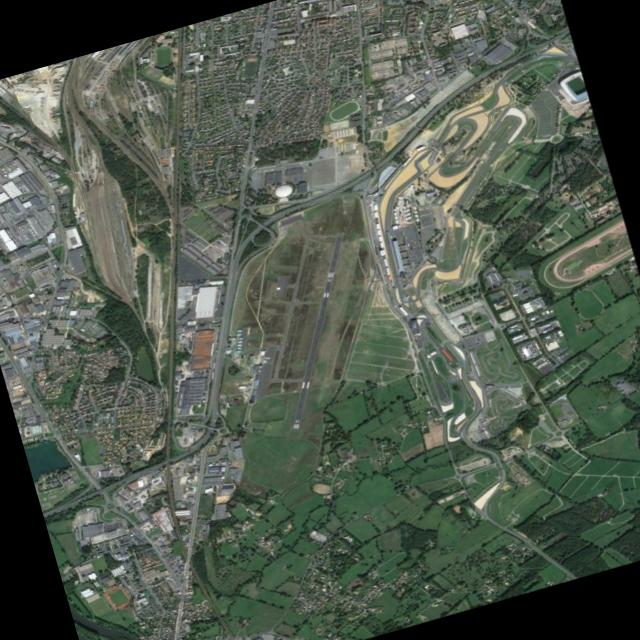storage-tank: (272, 180, 294, 200)
